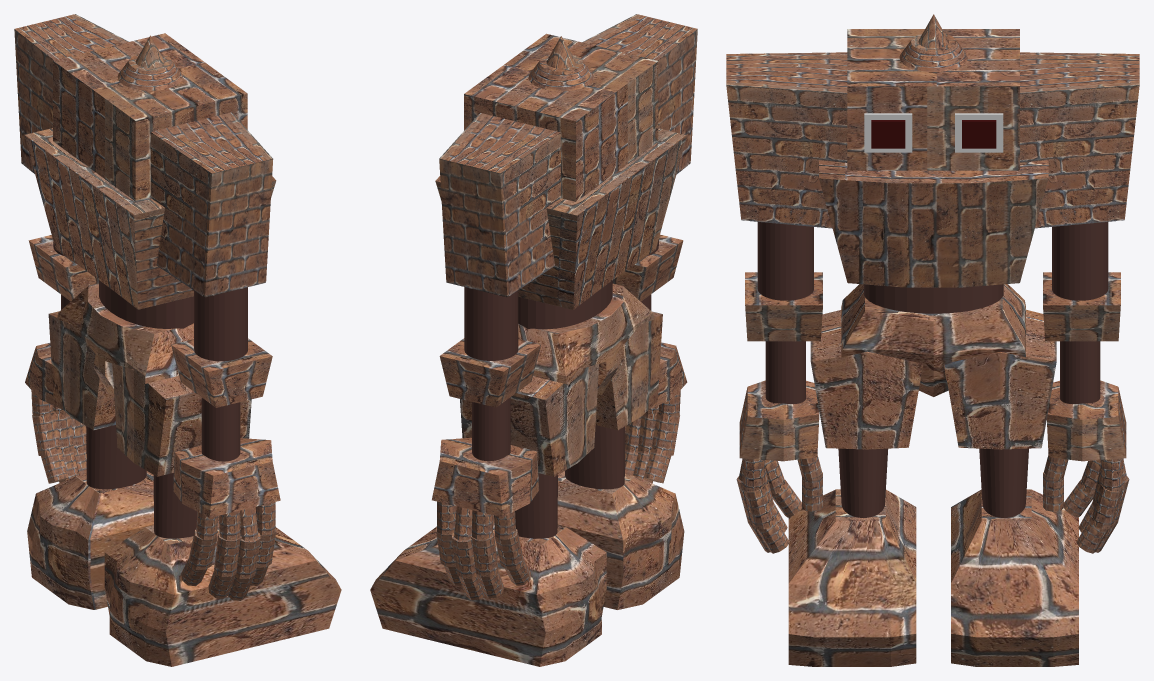
File: robot_proto_unitied.fbx
The picture shows the model from 3 angles, left to right: view 1: azimuth 30°, elevation 25°; view 2: azimuth 150°, elevation 25°; view 3: azimuth 270°, elevation 25°; orthographic projection. The views are drawn at different scales.
Parts seen in each view (by area): view 1: Arm_R, Foot_R, Head, Foot_L, Body, Arm_L, Waist; view 2: Arm_L, Foot_L, Head, Foot_R, Body, Arm_R, Waist; view 3: Arm_R, Arm_L, Foot_R, Foot_L, Body, Head, Waist, Eye_R.001, Eye_L.002, Eye_R.002, Eye_L.001.
Boxes of the visible parts, x1=… form: Arm_R: x1=150, y1=112, x2=280, y2=600; Foot_R: x1=104, y1=363, x2=341, y2=666; Head: x1=53, y1=33, x2=247, y2=201; Foot_L: x1=27, y1=311, x2=153, y2=609; Body: x1=24, y1=128, x2=276, y2=328; Arm_L: x1=14, y1=14, x2=128, y2=483; Waist: x1=57, y1=283, x2=193, y2=394; Arm_L: x1=432, y1=113, x2=560, y2=600; Foot_L: x1=370, y1=363, x2=606, y2=666; Head: x1=464, y1=33, x2=658, y2=201; Foot_R: x1=557, y1=311, x2=684, y2=609; Body: x1=435, y1=128, x2=686, y2=329; Arm_R: x1=582, y1=14, x2=697, y2=483; Waist: x1=518, y1=283, x2=654, y2=394; Arm_R: x1=726, y1=52, x2=847, y2=553; Arm_L: x1=1020, y1=52, x2=1139, y2=553; Foot_R: x1=788, y1=310, x2=922, y2=666; Foot_L: x1=944, y1=309, x2=1078, y2=666; Body: x1=819, y1=160, x2=1048, y2=313; Head: x1=847, y1=14, x2=1019, y2=170; Waist: x1=841, y1=284, x2=1025, y2=396; Eye_R.001: x1=864, y1=113, x2=912, y2=152; Eye_L.002: x1=962, y1=120, x2=996, y2=148; Eye_R.002: x1=871, y1=120, x2=905, y2=148; Eye_L.001: x1=955, y1=113, x2=1003, y2=152.
Bounding box in the file's own units: 1397 × 3807 × 2396.
7 materials, 2 textured.
